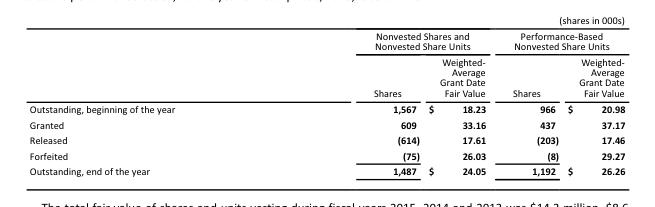table: (28, 29, 624, 176)
table column: (28, 29, 273, 176), (273, 29, 423, 176), (423, 29, 498, 176), (498, 29, 562, 176), (562, 29, 624, 176)
table column header: (28, 29, 624, 100)
table row: (28, 53, 624, 100), (28, 29, 624, 53), (28, 100, 624, 116), (28, 131, 624, 147), (28, 116, 624, 131), (28, 147, 624, 162), (28, 162, 624, 176)
table spanning cell: (273, 29, 498, 53), (498, 29, 624, 53)
